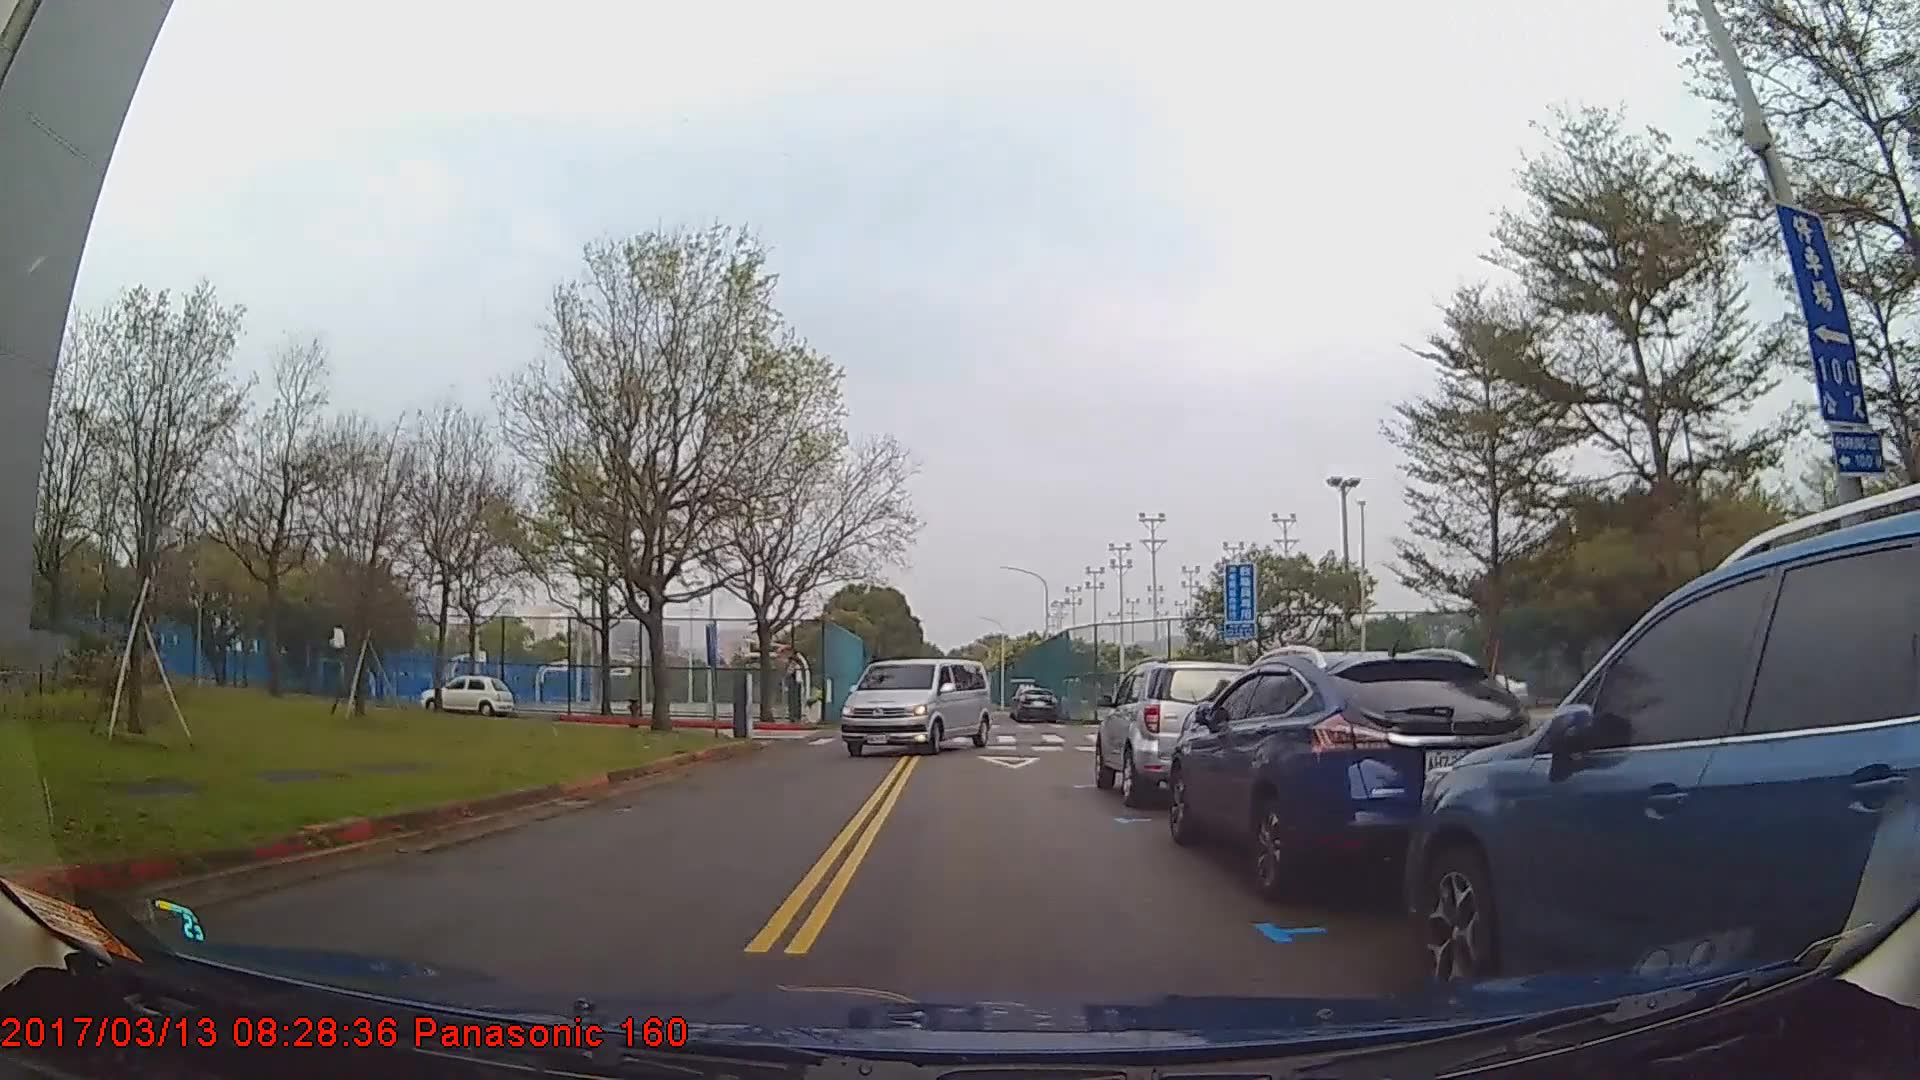vehicle: (1404, 516, 1917, 1013), (1167, 646, 1538, 898), (1095, 659, 1262, 806), (839, 650, 993, 753), (421, 673, 513, 713), (1014, 679, 1060, 719)
